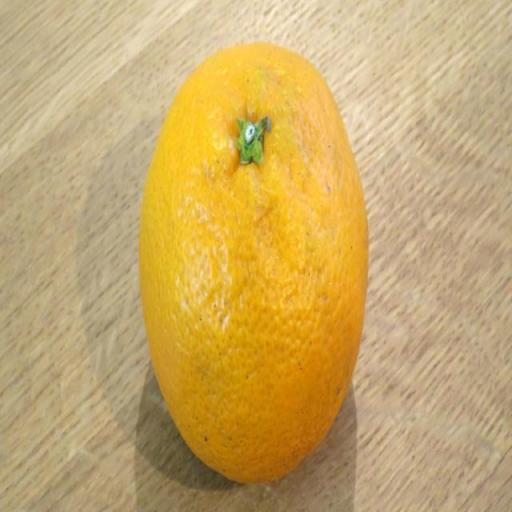fruit: (140, 44, 367, 481)
